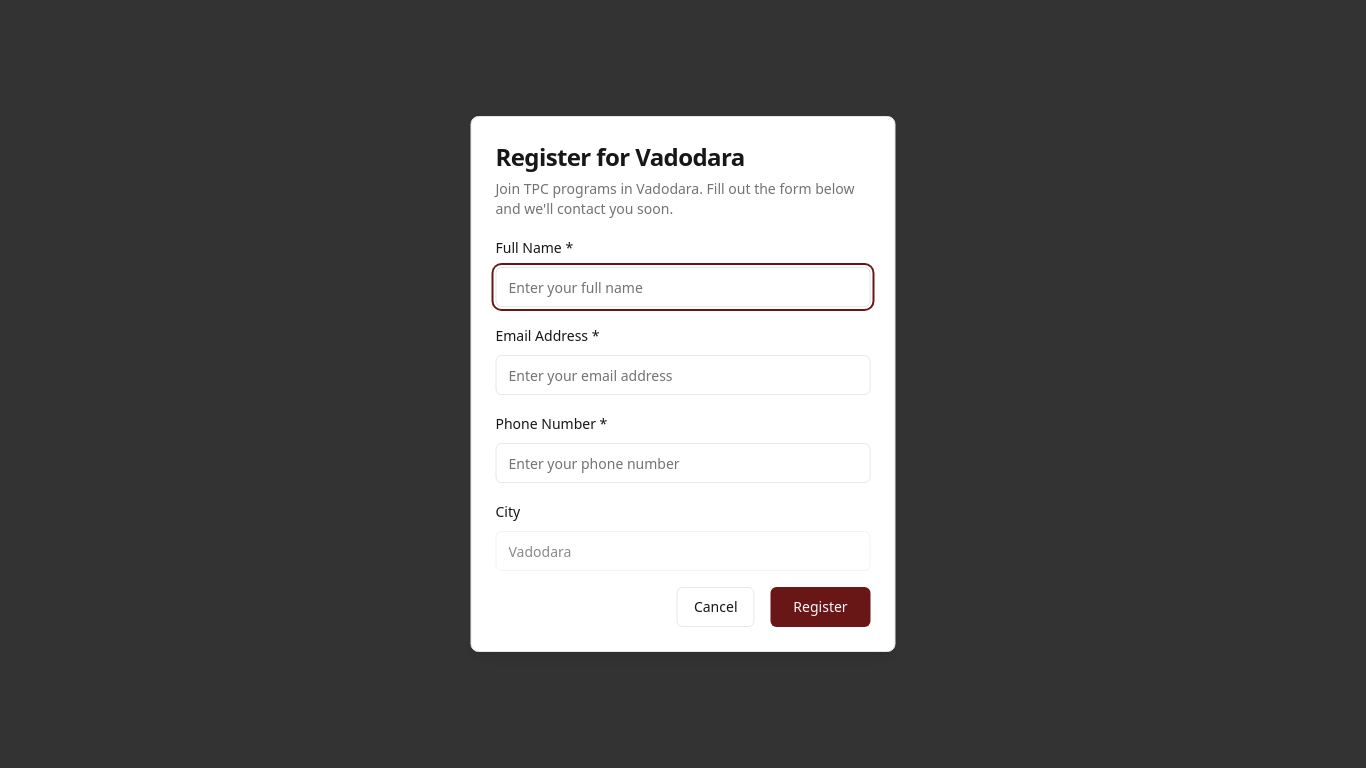
it: RegistrationModal › validates phone number format
Type "123" into the field labelled "Phone Number *" at {"x": 683, "y": 463}, box [496,443,870,483]
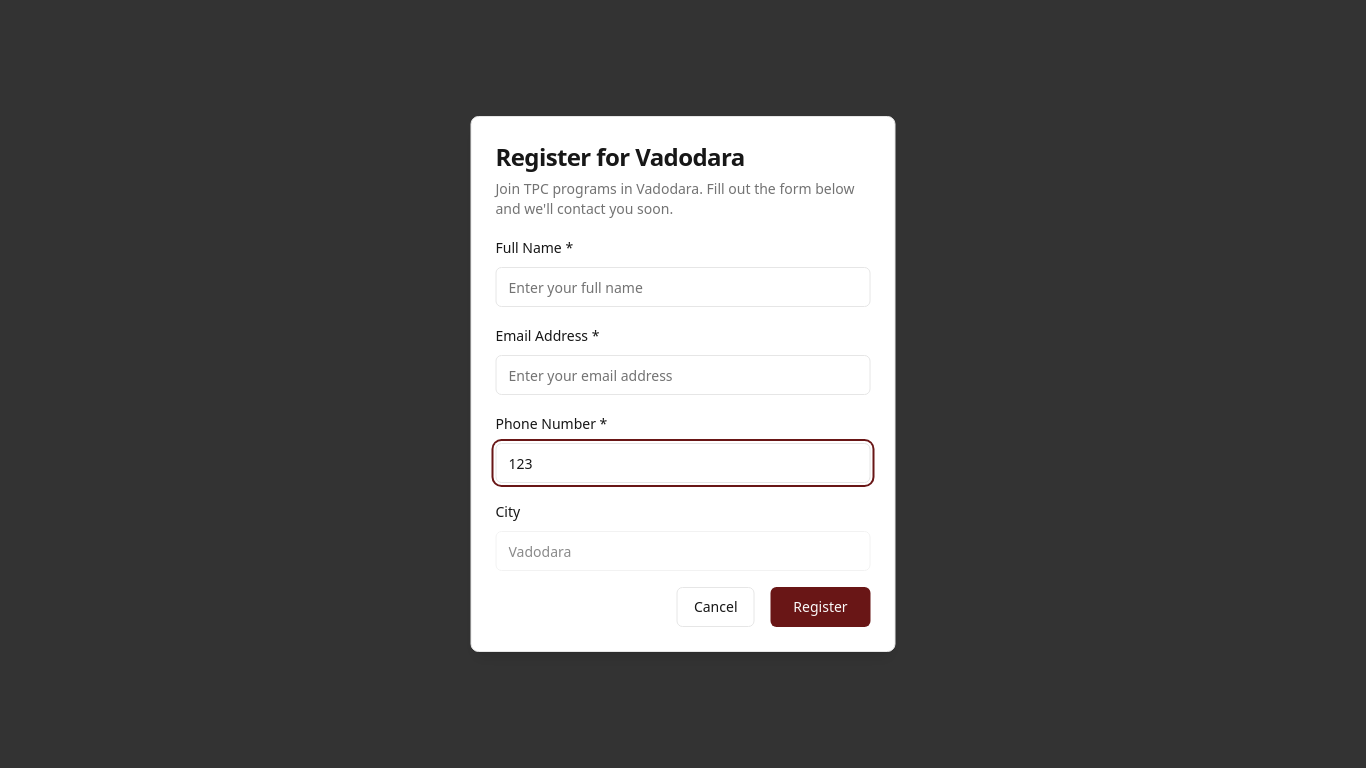
Click the button "Register" at {"x": 820, "y": 607}, box [770,587,870,627]
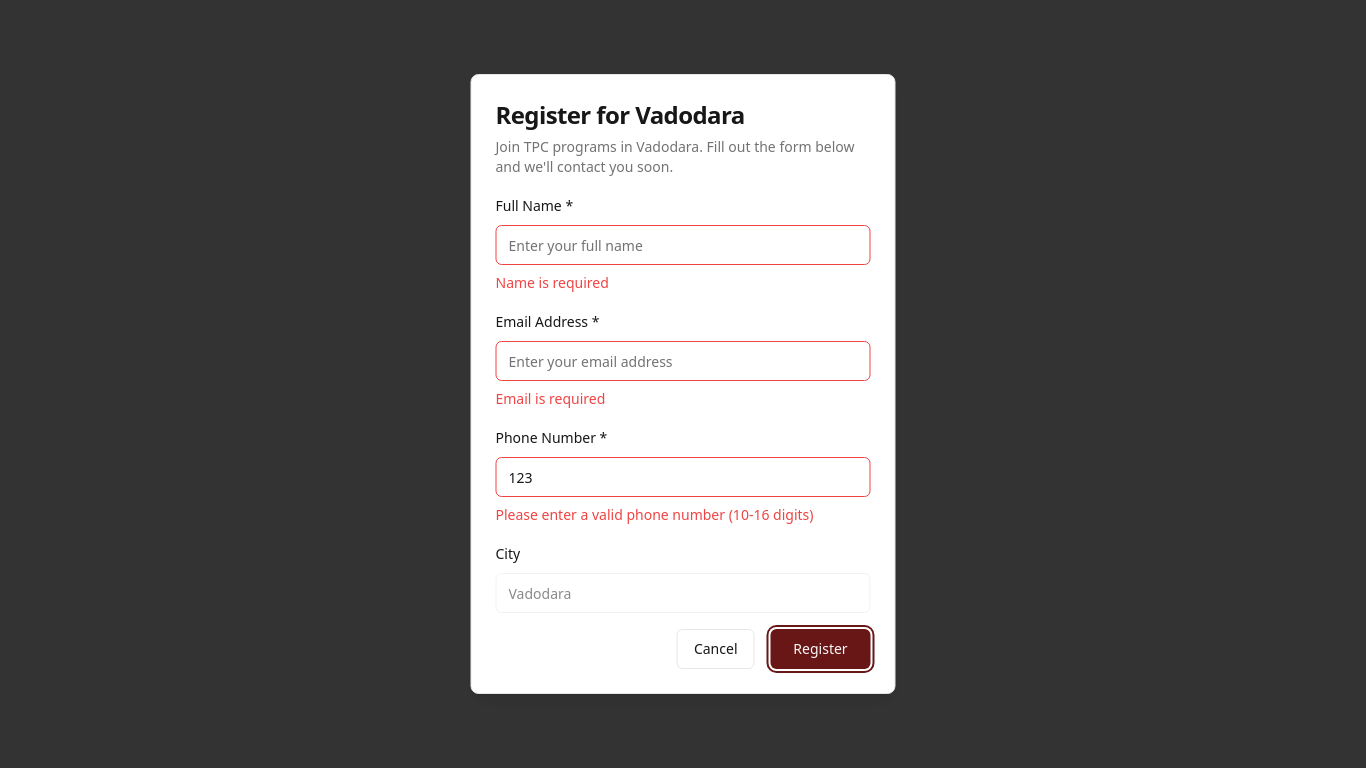
Result: the text "Please enter a valid phone number (10-16 digits)" is shown at [496,505,814,524]
